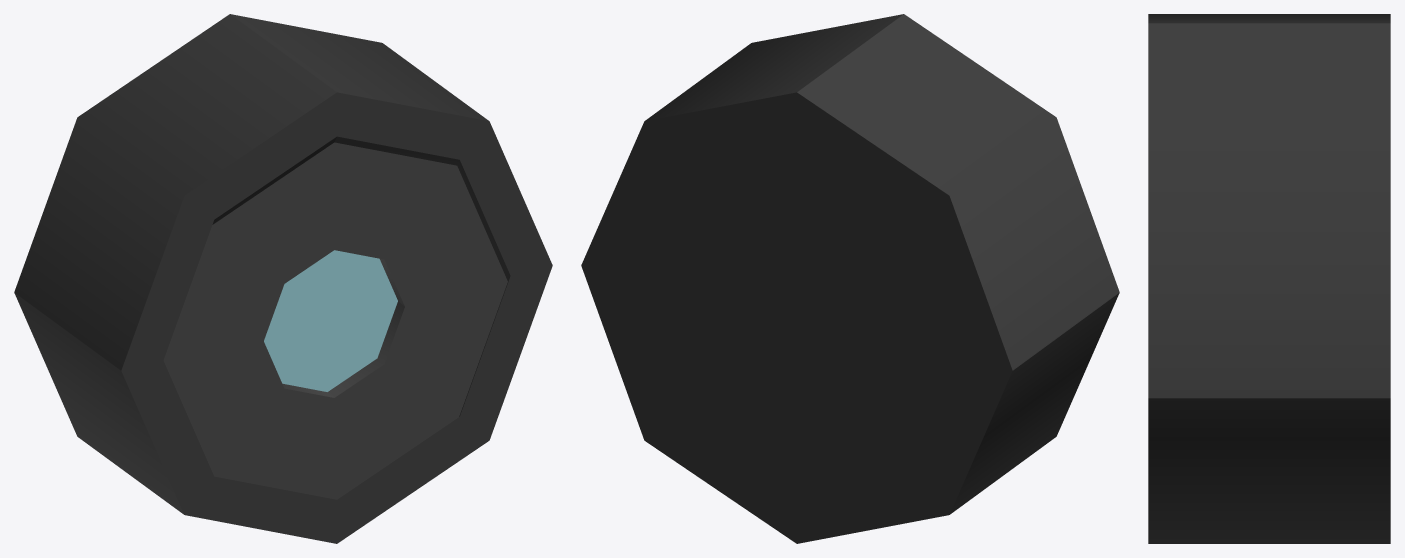
Rendered from Camera-Lens-Small_01.fbx.
3 views of the same model, side by side, from view 1: azimuth 30°, elevation 25°; view 2: azimuth 150°, elevation 25°; view 3: azimuth 270°, elevation 25° (orthographic). The views are drawn at different scales.
Parts seen in each view (by area): view 1: DSLR_Lens_Small; view 2: DSLR_Lens_Small; view 3: DSLR_Lens_Small.
Part boxes in pixels (bbox=[...]): DSLR_Lens_Small: bbox=[14, 14, 552, 543]; DSLR_Lens_Small: bbox=[581, 14, 1119, 543]; DSLR_Lens_Small: bbox=[1148, 14, 1390, 543].
Size of the model in its own units: 0.0776 by 0.0776 by 0.0334.
